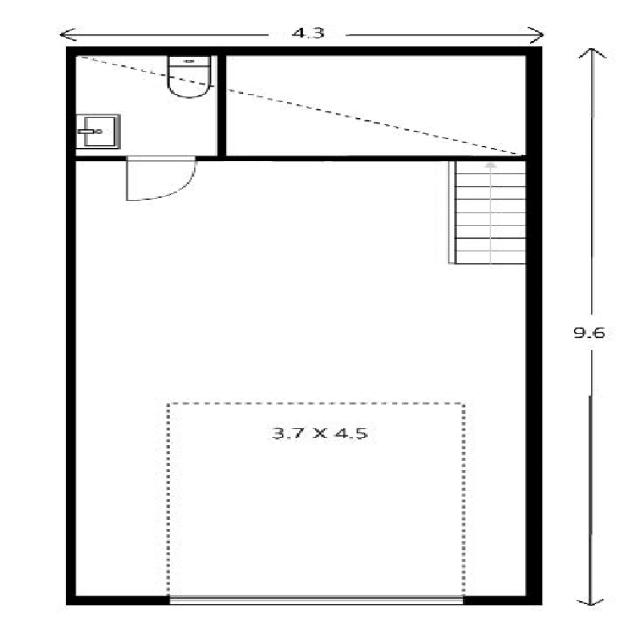door: (118, 153, 200, 204)
zone: (218, 51, 536, 159), (71, 53, 223, 158)
